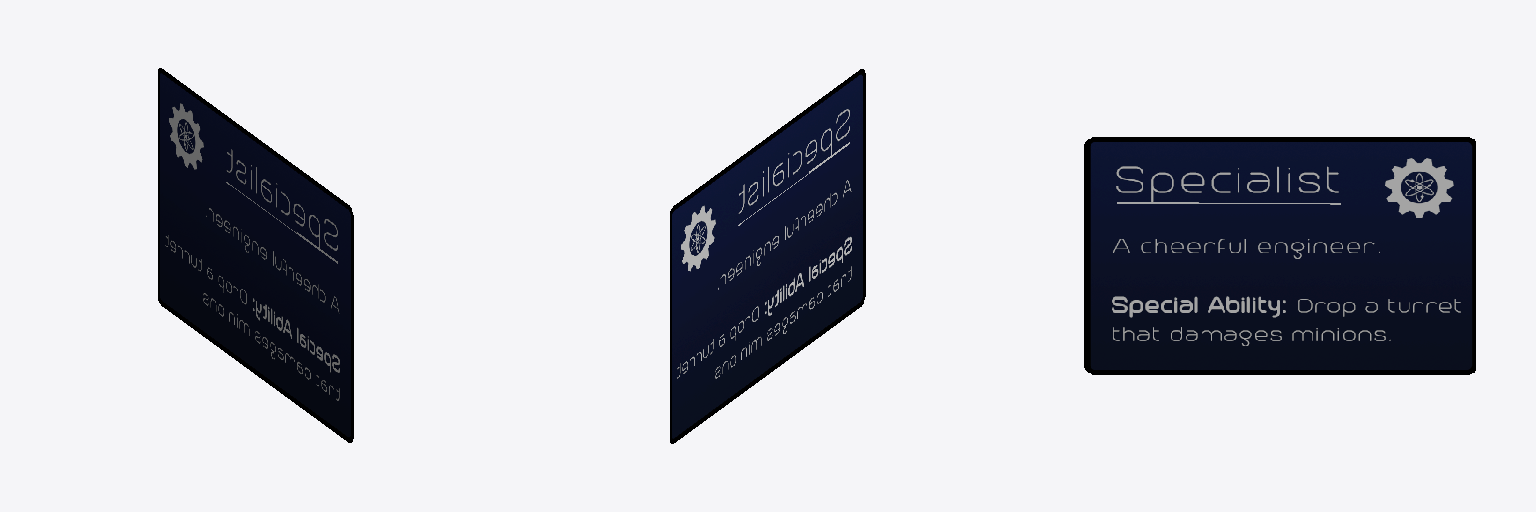
3 renders of one model, left to right at view 1: azimuth 30°, elevation 25°; view 2: azimuth 150°, elevation 25°; view 3: azimuth 270°, elevation 25°, orthographic.
Visible parts, largest first — view 1: Plane; view 2: Plane; view 3: Plane.
Part boxes in pixels (x1,y1,x2,y2): Plane: (158, 68, 353, 442); Plane: (670, 69, 865, 443); Plane: (1084, 137, 1475, 374).
Bounding box in the file's own units: 0 × 2 × 2.98.
1 materials, 1 textured.